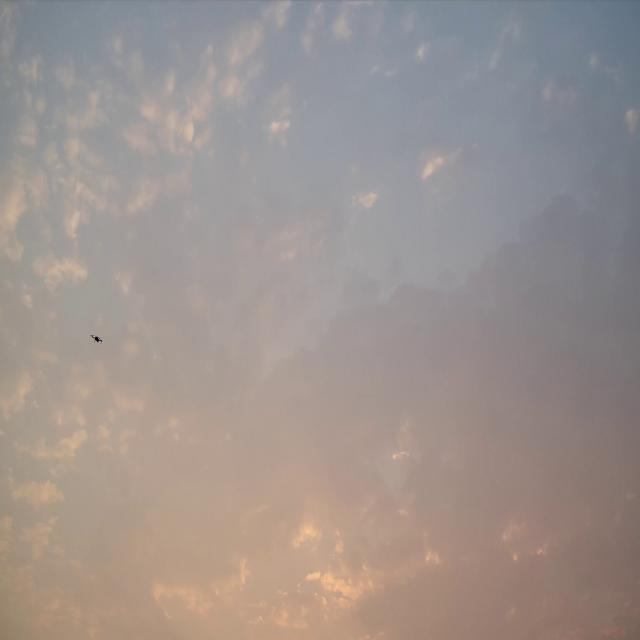UAV: (90, 334, 102, 344)
